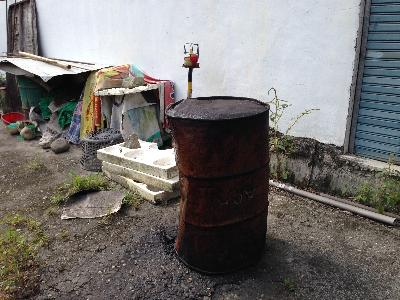bucket: (163, 94, 273, 279)
plastic_bag: (66, 63, 173, 143)
